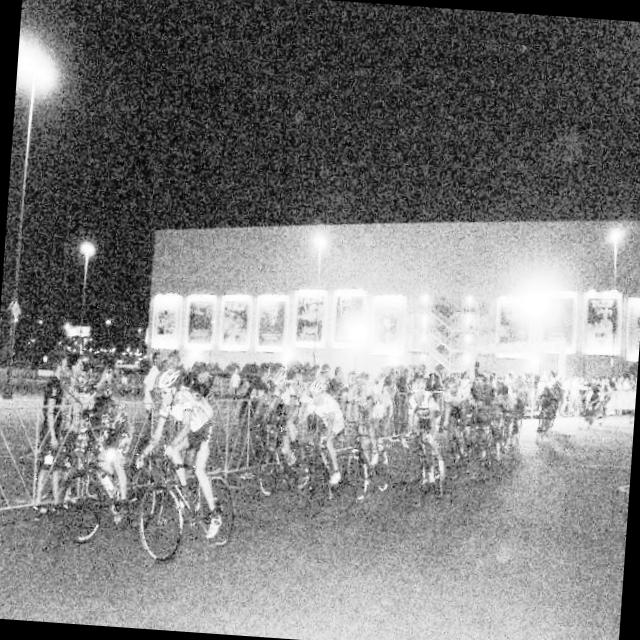Bicycle: (108, 442, 272, 594), (30, 422, 135, 536), (284, 414, 398, 516), (376, 408, 477, 502)
